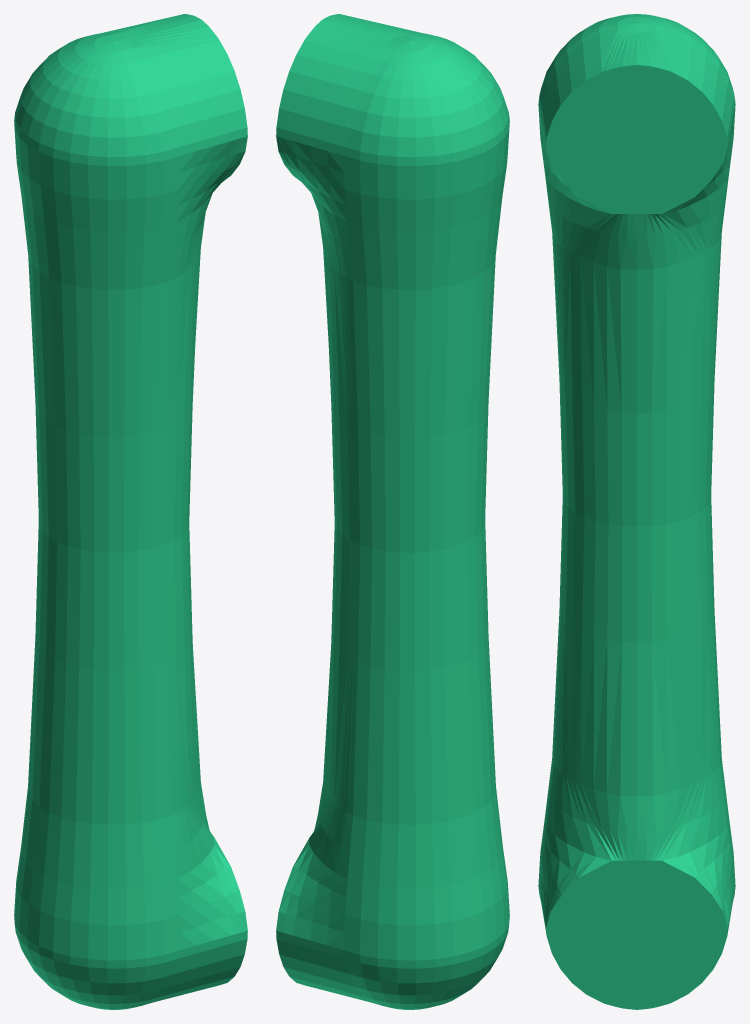
3 renders of one model, left to right at view 1: azimuth 30°, elevation 25°; view 2: azimuth 150°, elevation 25°; view 3: azimuth 270°, elevation 25°, orthographic.
Visible parts, largest first — view 1: link_2_collision; view 2: link_2_collision; view 3: link_2_collision.
Part boxes in pixels (x1,y1,x2,y2): link_2_collision: [14, 14, 247, 1009]; link_2_collision: [276, 14, 509, 1009]; link_2_collision: [538, 14, 735, 1009].
Bounding box in the file's own units: 0.2751 × 0.2736 × 1.45.
